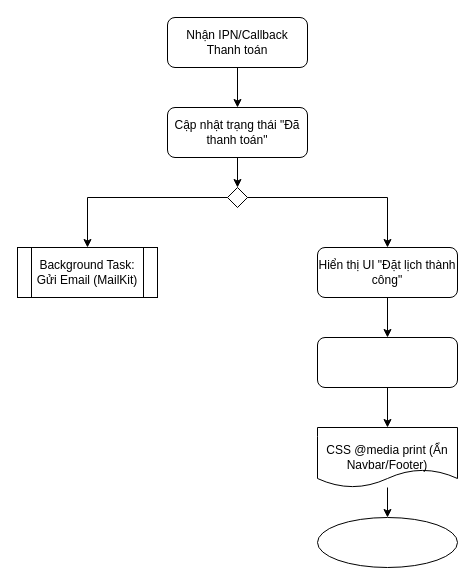
This 475x585 diagram has some shape labels left out. Here are the shapes that lost their labels. From the top down, the centre of each, then its label:
point (387, 362): Nhấn nút "In phiếu hẹn"
point (387, 542): Phiếu hẹn giấy chuẩn quy cách
